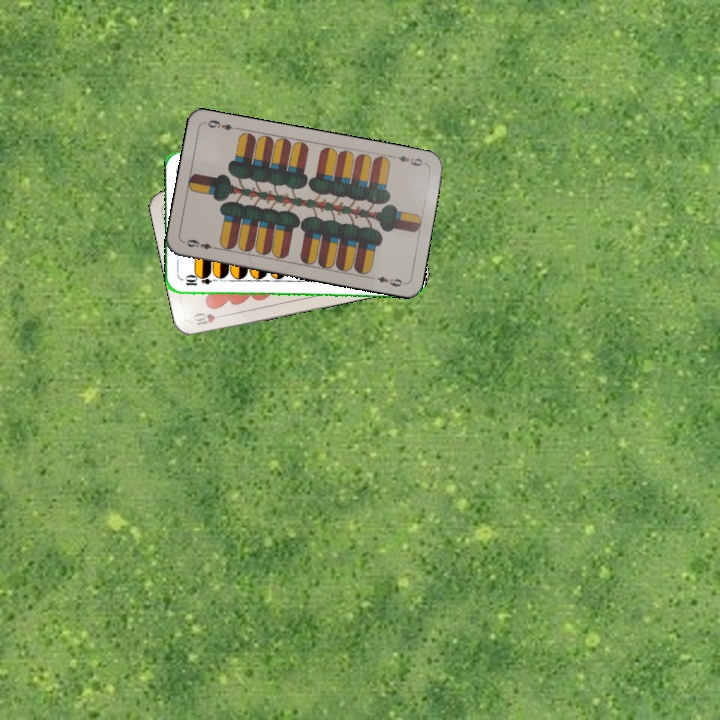E10: (181, 273, 220, 288)
E9: (180, 235, 221, 252), (394, 152, 425, 169)
H10: (189, 309, 229, 328)
